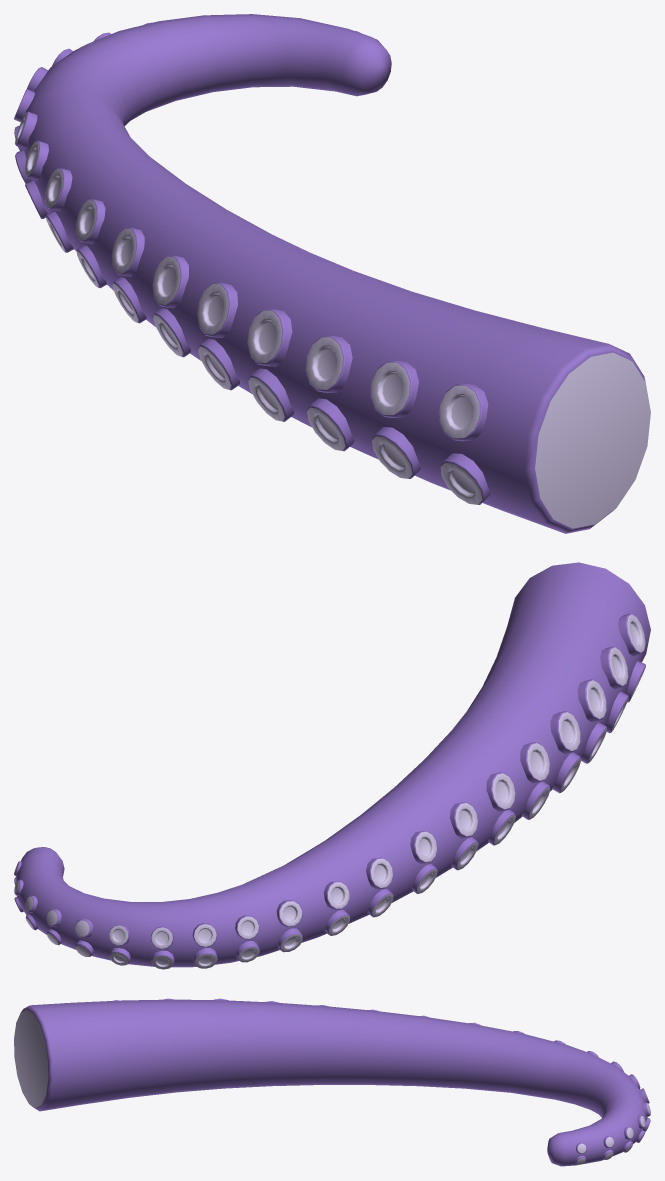
File: Octopus_Tentacles_2.fbx
3 renders of one model, top to bottom at view 1: azimuth 30°, elevation 25°; view 2: azimuth 150°, elevation 25°; view 3: azimuth 270°, elevation 25°, orthographic. The views are drawn at different scales.
Parts seen in each view (by area): view 1: Octopus_Tentacles_2; view 2: Octopus_Tentacles_2; view 3: Octopus_Tentacles_2.
Boxes of the visible parts, bbox=[...] form: Octopus_Tentacles_2: bbox=[14, 14, 650, 533]; Octopus_Tentacles_2: bbox=[14, 562, 650, 969]; Octopus_Tentacles_2: bbox=[14, 998, 650, 1166].
Bounding box in the file's own units: 32.62 × 12.31 × 73.34.
